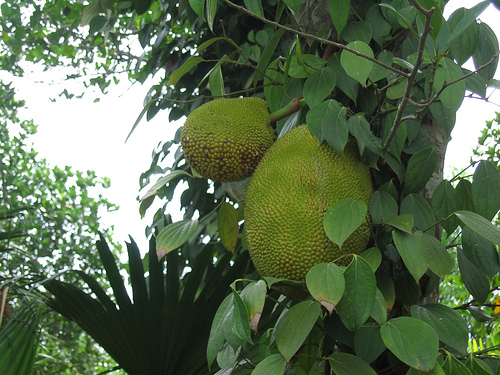jackfruit: (245, 125, 376, 286), (180, 96, 277, 182)
